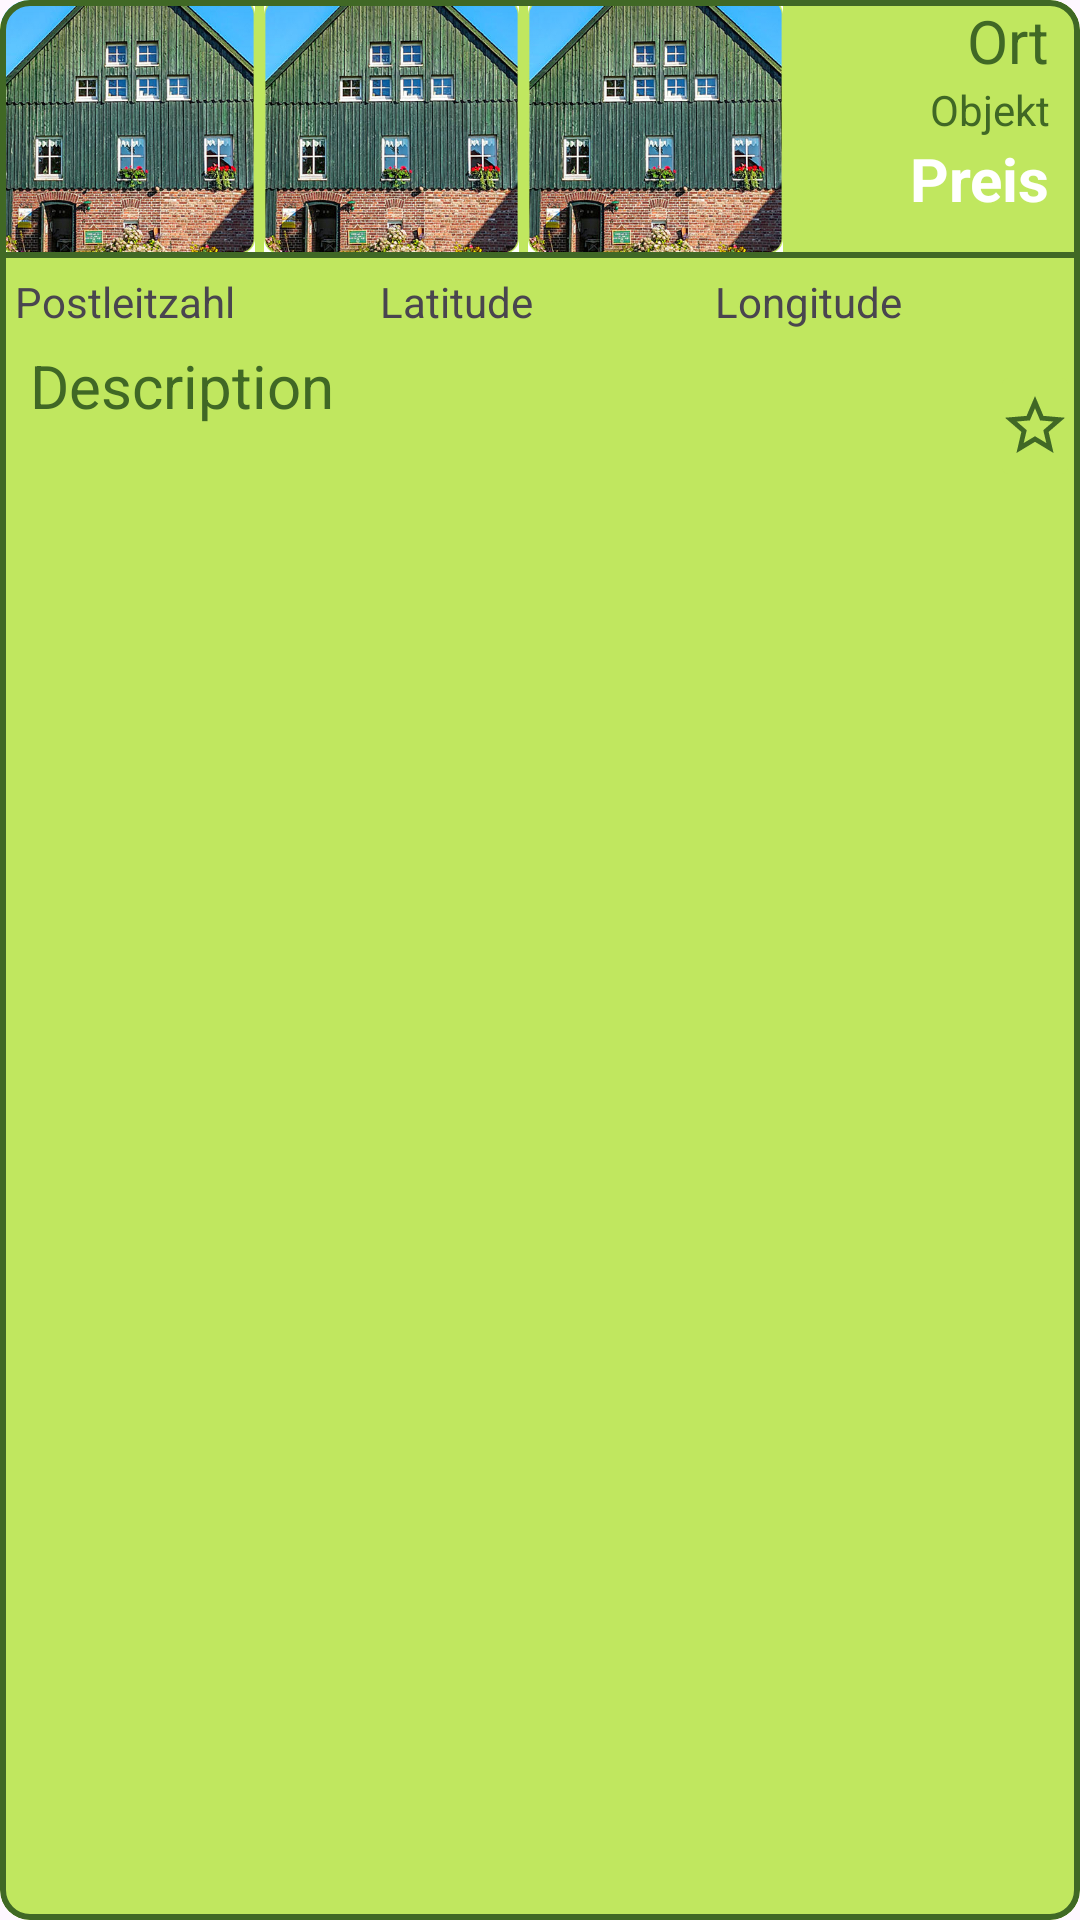

Icon click points for this 1080*1920 phone screenshot, format point (x, y):
bild halle: point (127, 126), point (391, 126), point (655, 126)
star unliked: point (1035, 425)
